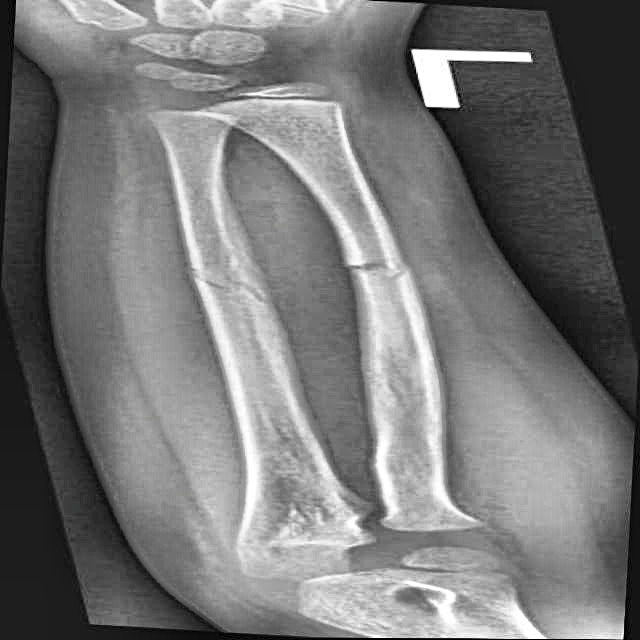Oblique Displaced: (175, 254, 293, 331)
Transverse Displaced: (338, 242, 434, 297)
